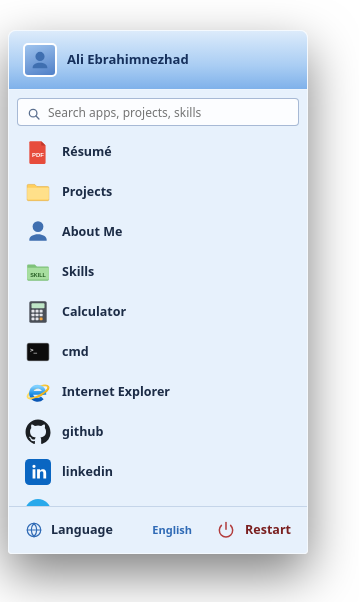
Test: desktop extras › Start menu search finds apps, projects and skills
This screenshot has width=359, height=602.
Type "workchi" into the search field with test id "start-menu-search" at (158, 112), box [17,98,299,126]
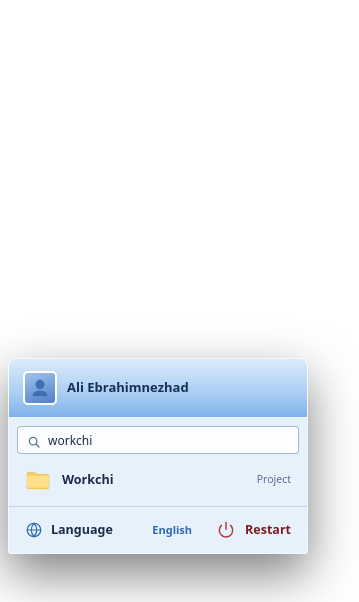
Now the element with test id "start-menu-results" shows "Workchi", box [15,460,301,500]
Replace the text in the search field with test id "start-menu-search" with "zzzzqq" at (158, 440), box [17,426,299,454]
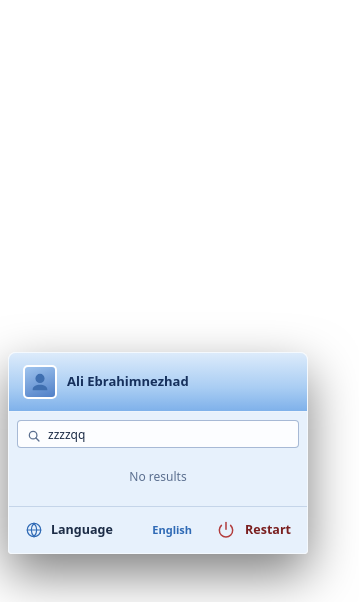
Now the element with test id "start-menu-results" reads "No results", box [129,468,187,485]
